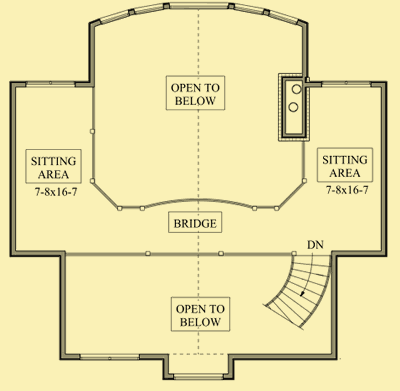stairs: (266, 252, 330, 329)
window: (100, 1, 300, 28), (19, 78, 79, 93), (80, 353, 141, 362), (319, 80, 372, 89), (171, 372, 223, 380)
